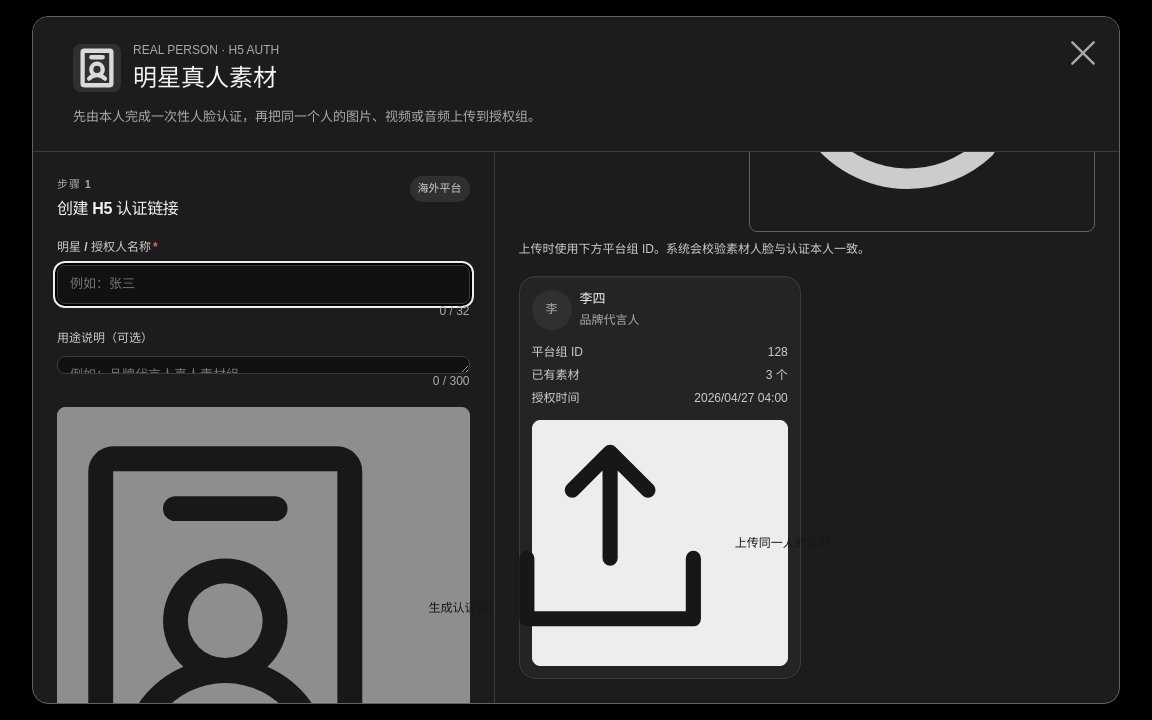
Test case: RealPersonAssetDialog › uploads selected files into the platform integer group ID
(page scrolled)
Click the button "上传同一人的素材" at (660, 543), box 532,420 -> 788,666
(page scrolled)
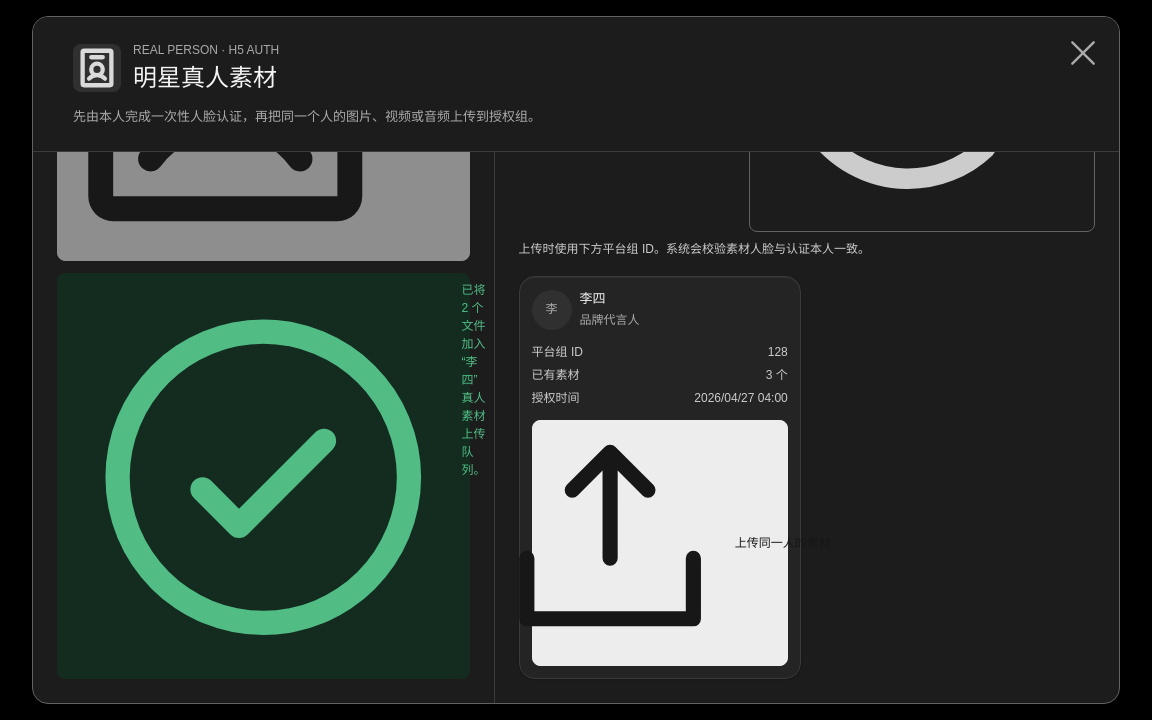
Expected: the text "已将 2 个文件加入“李四”真人素材上传队列。" is shown, 57,273 -> 470,679
